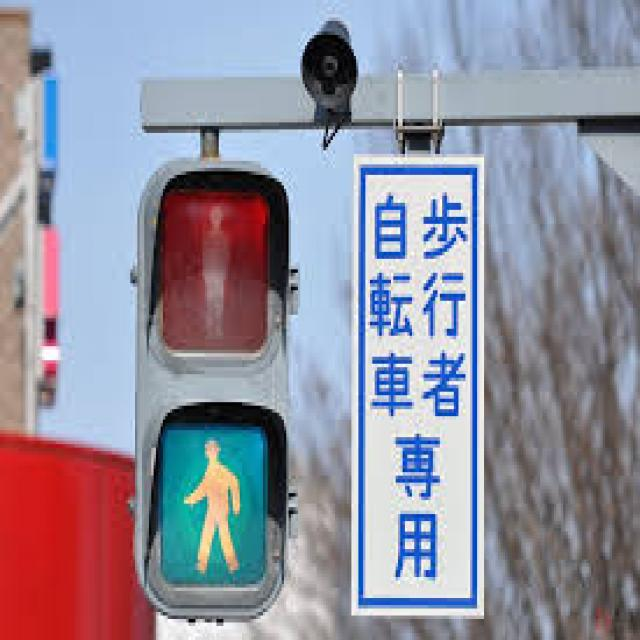trafficlight: (125, 154, 288, 615)
